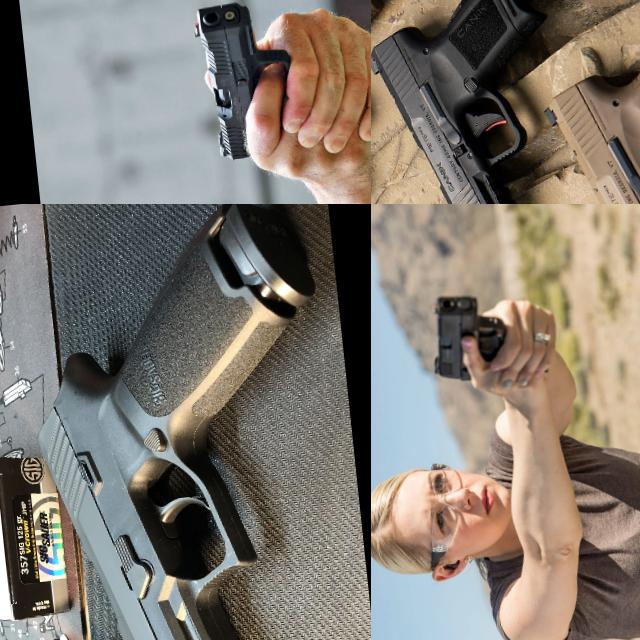handgun: (10, 204, 367, 640), (371, 0, 572, 204), (530, 6, 640, 204), (371, 0, 474, 204), (189, 0, 303, 164), (422, 286, 512, 386)
